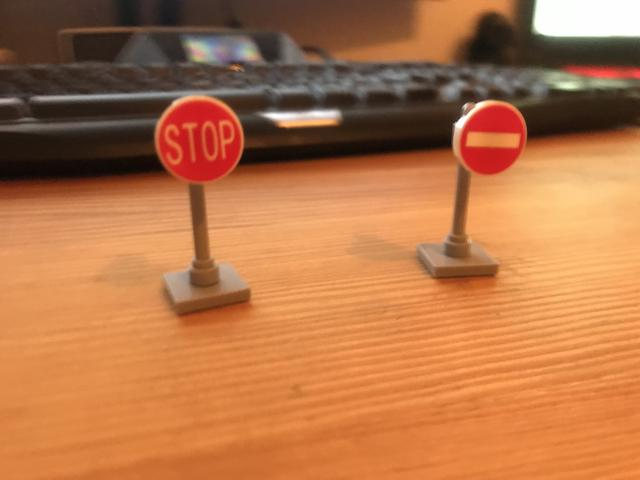stop: (156, 96, 244, 186)
verbot der einfahrt: (454, 101, 529, 175)
